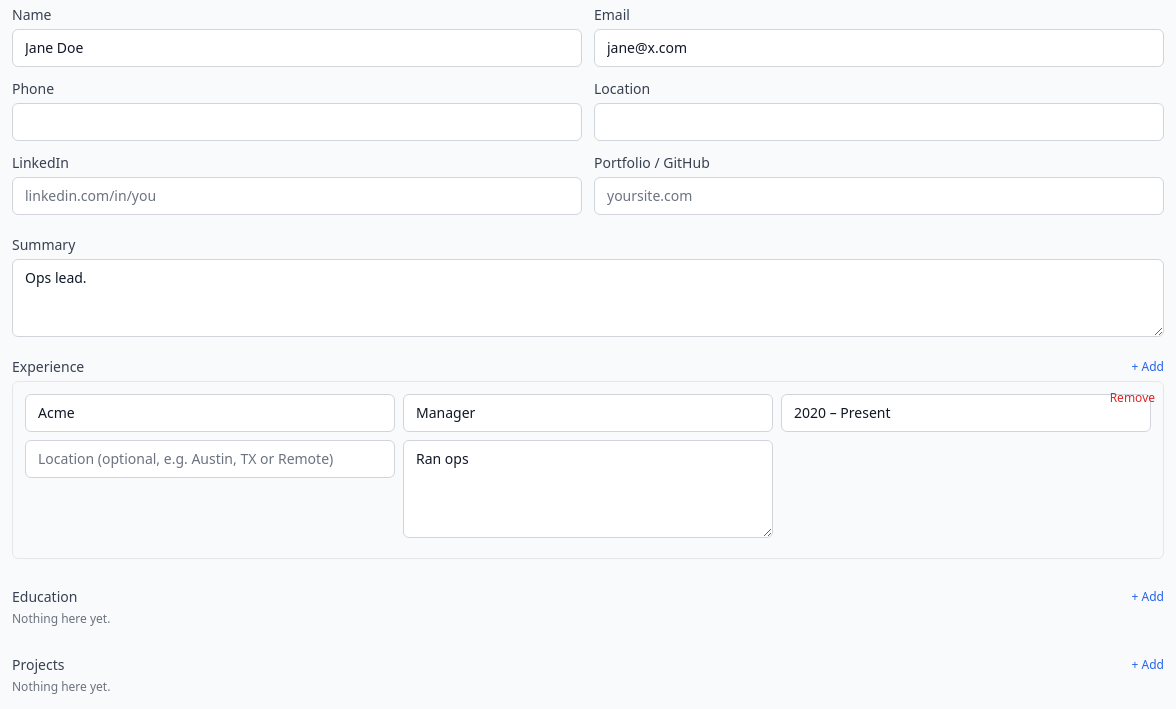
it: SavedProfileEditor › a rejected save keeps the editor open with the server's reason, and the edits intact
The width and height of the screenshot is (1176, 709).
Replace the text in the field labelled "Name" with "Changed": (297, 48) [12,29,582,67]
(page scrolled)
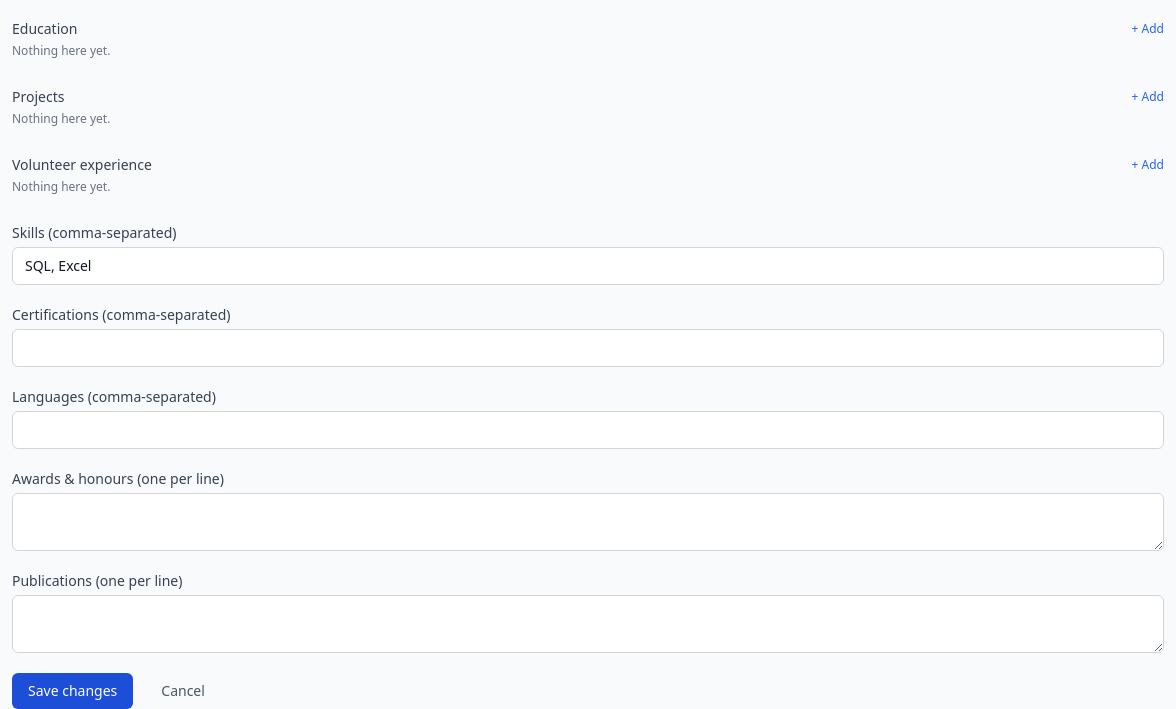
Click the button "Save changes": click(73, 691) [12,673,133,708]
(page scrolled)
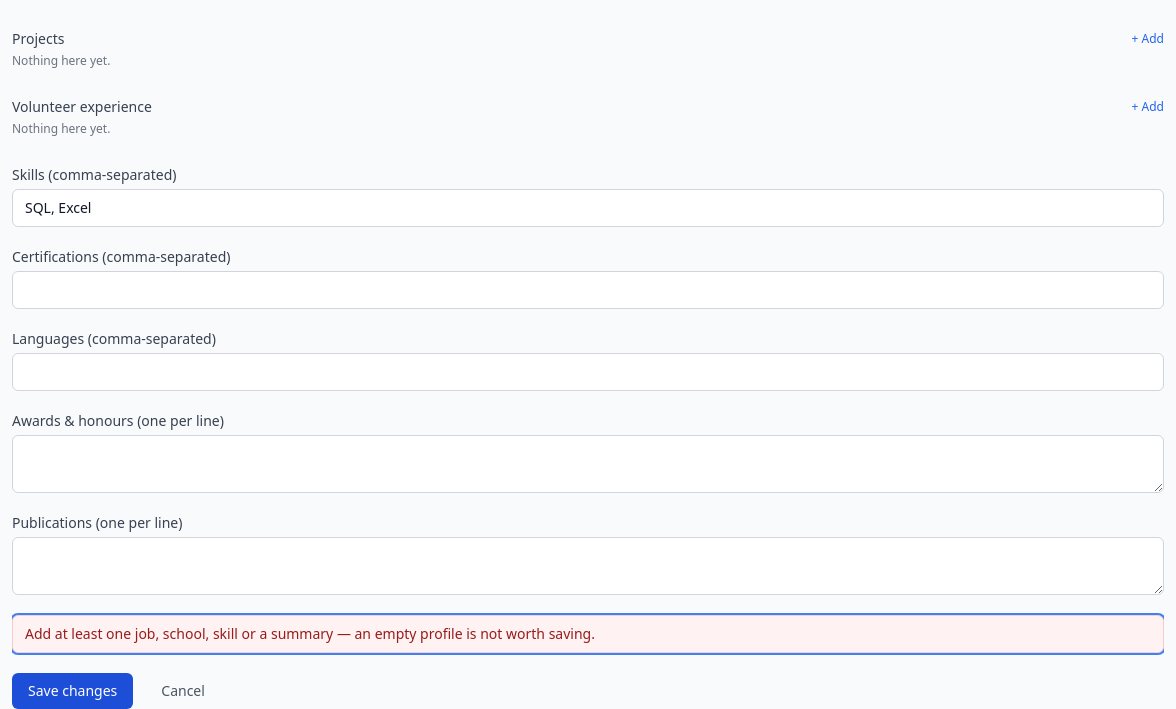
expect the message shows "empty profile": met, box [25,624,595,643]
